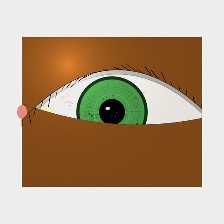pinguecula_lesion: (31, 98, 63, 123)
